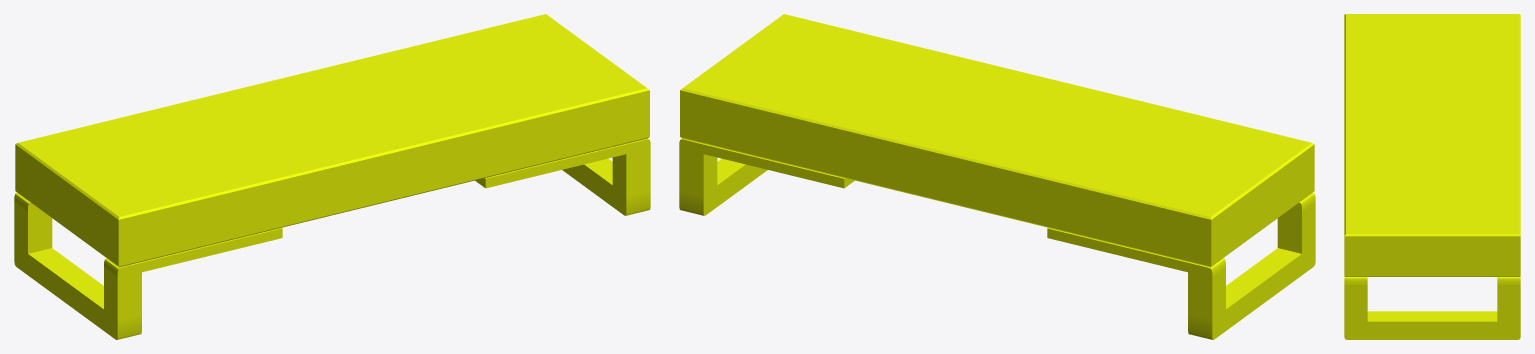
Rendered from CoffeeTable2.FBX.
3 renders of one model, left to right at view 1: azimuth 30°, elevation 25°; view 2: azimuth 150°, elevation 25°; view 3: azimuth 270°, elevation 25°, orthographic. The views are drawn at different scales.
Visible parts, largest first — view 1: Box027; view 2: Box027; view 3: Box027.
Boxes of the visible parts, x1,y1,x2,y2 form: Box027: (14,14,650,339); Box027: (679,14,1315,339); Box027: (1344,14,1520,339).
Bounding box in the file's own units: 3.02 × 0.6648 × 1.01.
